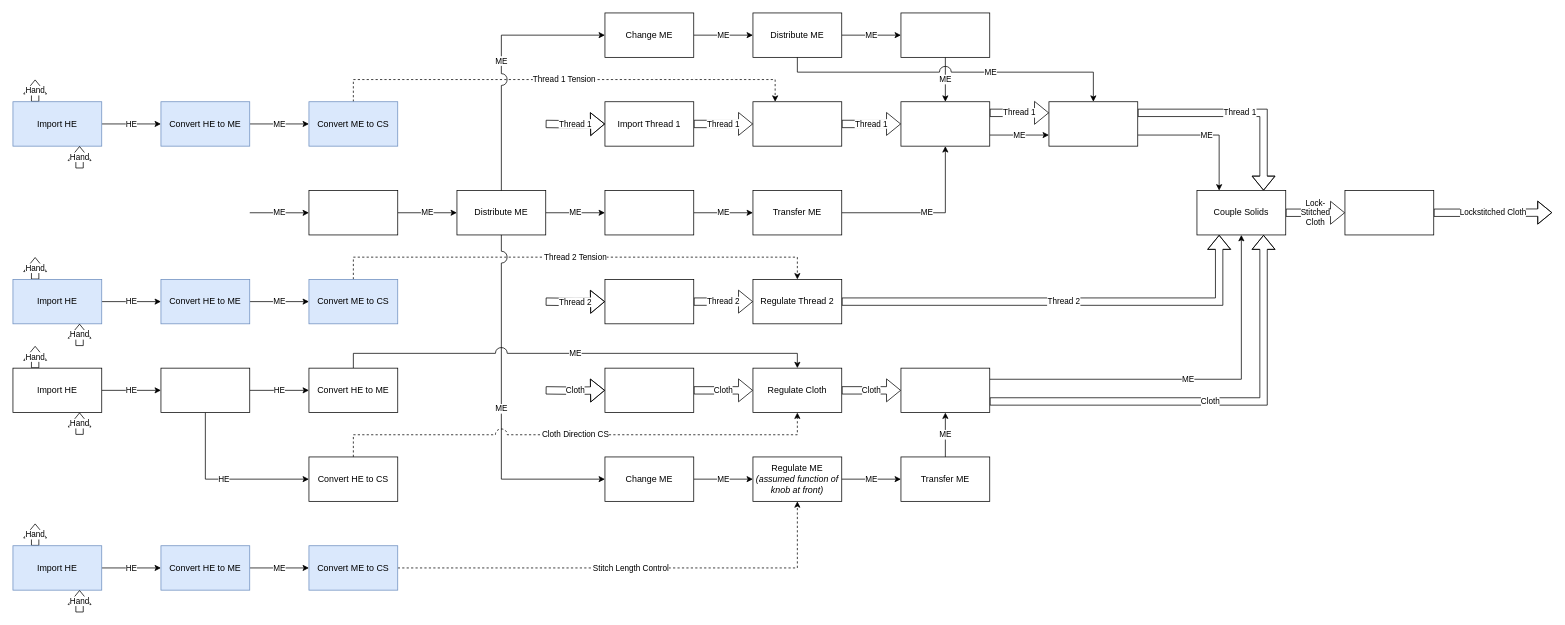
Image size: 1565x625. Some labels were removed from this diagram. The centre of each missing label's shape, as x and y in pixels:
Change ME (3:1 gear reduction): the point at 649,212
Distribute HE: the point at 205,390
Export Solid: the point at 1389,212
Guide Cloth: the point at 945,390
Guide Thread 1: the point at 945,123
Import Cloth: the point at 649,390
Import ME: the point at 353,212
Import Thread 2: the point at 649,301
Regulate Thread 1: the point at 797,123
Stabilize Thread 1 (takeup): the point at 1093,123
Transfer ME (needle): the point at 945,34
